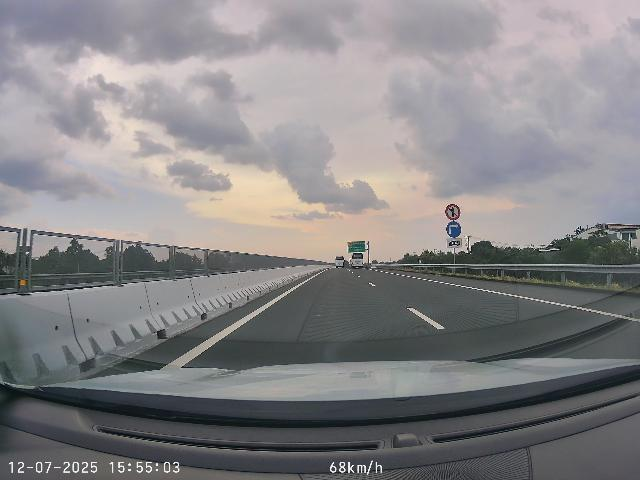136-cam-di-thang: (445, 204, 461, 220)
301d-cac-xe-chi-duoc-re-phai-2: (446, 221, 461, 238)
